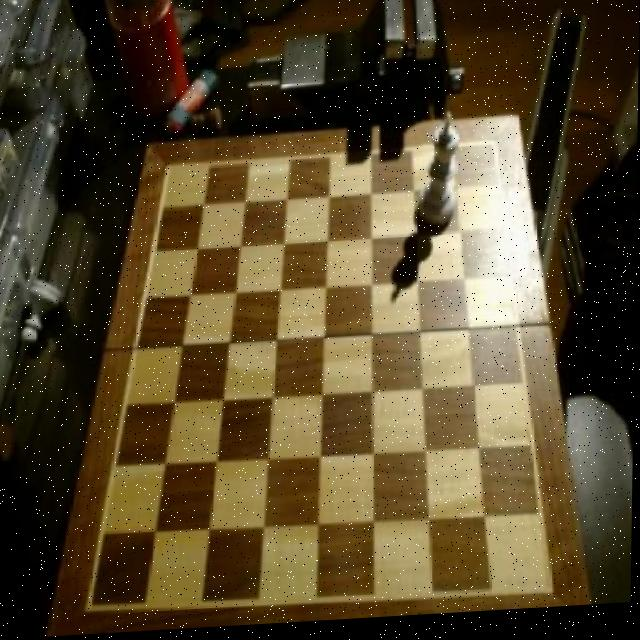white-bishop: (421, 122, 463, 239)
